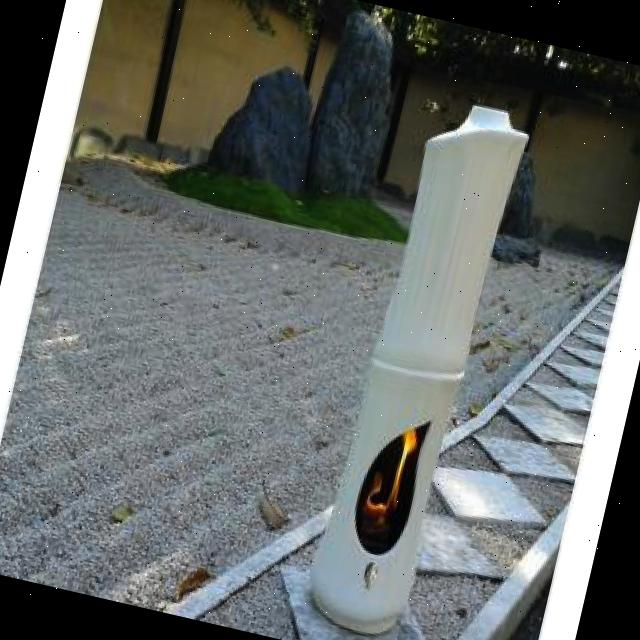fire: (351, 426, 426, 554)
